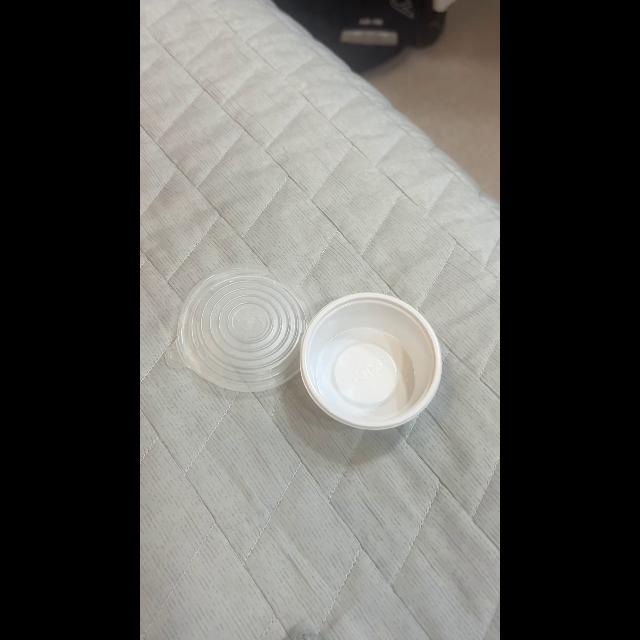clean: (305, 296, 437, 426), (187, 276, 305, 386)
